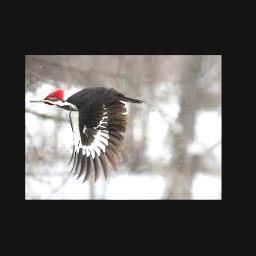Woodpecker: (28, 87, 146, 182)
